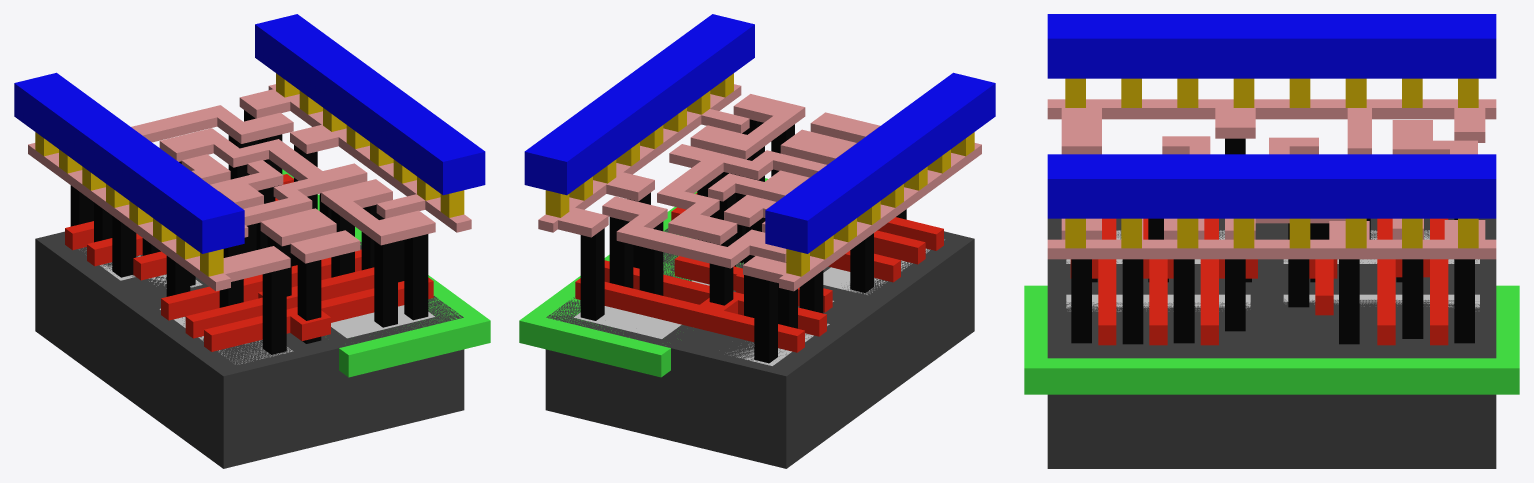
File: sky130_fd_sc_hd__a21bo_2.obj
3 renders of one model, left to right at view 1: azimuth 30°, elevation 25°; view 2: azimuth 150°, elevation 25°; view 3: azimuth 270°, elevation 25°, orthographic. The views are drawn at different scales.
Visible parts, largest first — view 1: subs, metal1, li, licon, poly, nwell, mcon, tap, diff; view 2: subs, metal1, li, licon, poly, nwell, mcon, tap, diff; view 3: metal1, subs, li, nwell, licon, poly, mcon, tap, diff.
Boxes of the visible parts, box(x1,y1,x2,y2) form: subs: box(35, 231, 464, 468); metal1: box(14, 14, 485, 253); li: box(28, 84, 471, 291); licon: box(70, 110, 428, 354); poly: box(65, 174, 433, 351); nwell: box(282, 169, 490, 377); mcon: box(35, 73, 464, 276); tap: box(331, 305, 434, 338); diff: box(79, 249, 293, 364); subs: box(545, 228, 974, 468); metal1: box(524, 14, 995, 253); li: box(538, 84, 981, 291); licon: box(580, 119, 906, 363); poly: box(575, 193, 943, 352); nwell: box(519, 178, 767, 377); mcon: box(545, 73, 974, 276); tap: box(574, 280, 709, 338); diff: box(727, 239, 944, 365); metal1: box(1047, 14, 1496, 218); subs: box(1047, 218, 1496, 468); li: box(1047, 99, 1496, 259); nwell: box(1024, 285, 1519, 394); licon: box(1071, 138, 1474, 344); poly: box(1070, 218, 1448, 345); mcon: box(1065, 78, 1478, 248); tap: box(1066, 294, 1479, 311); diff: box(1066, 230, 1479, 263).
Bounding box in the file's own units: 3.2 × 2.74 × 4.06.
